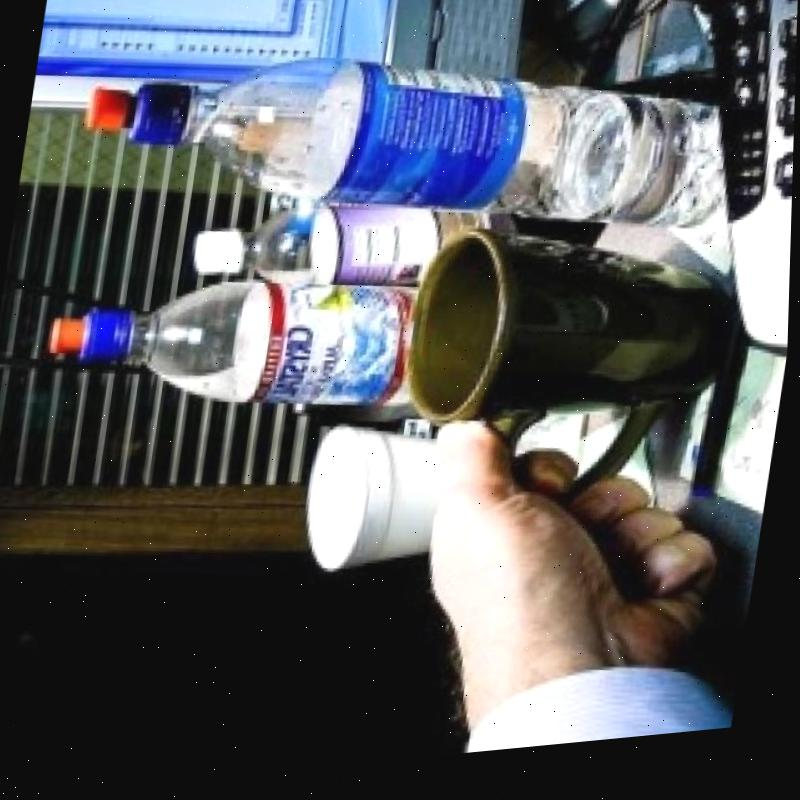botella: (71, 10, 751, 297), (39, 243, 460, 452), (193, 180, 533, 324)
